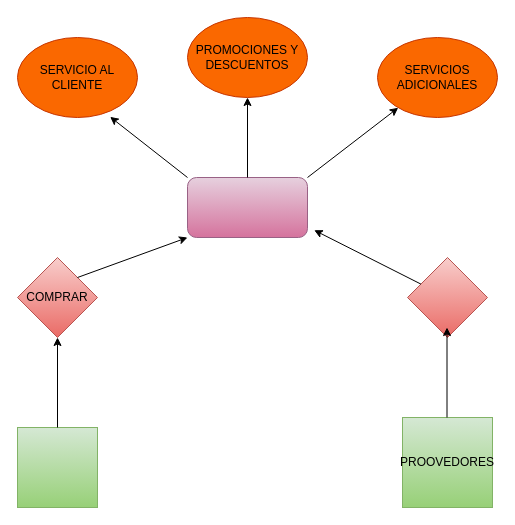
Some shapes in this 515 by 525 pixel diagram are drawn without their labels. Here are the shapes that lost their labels. From the top down, the centre of each, then its label:
[247,207]: PAPELERIA
[447,297]: VENDER
[57,467]: CLIENTES
